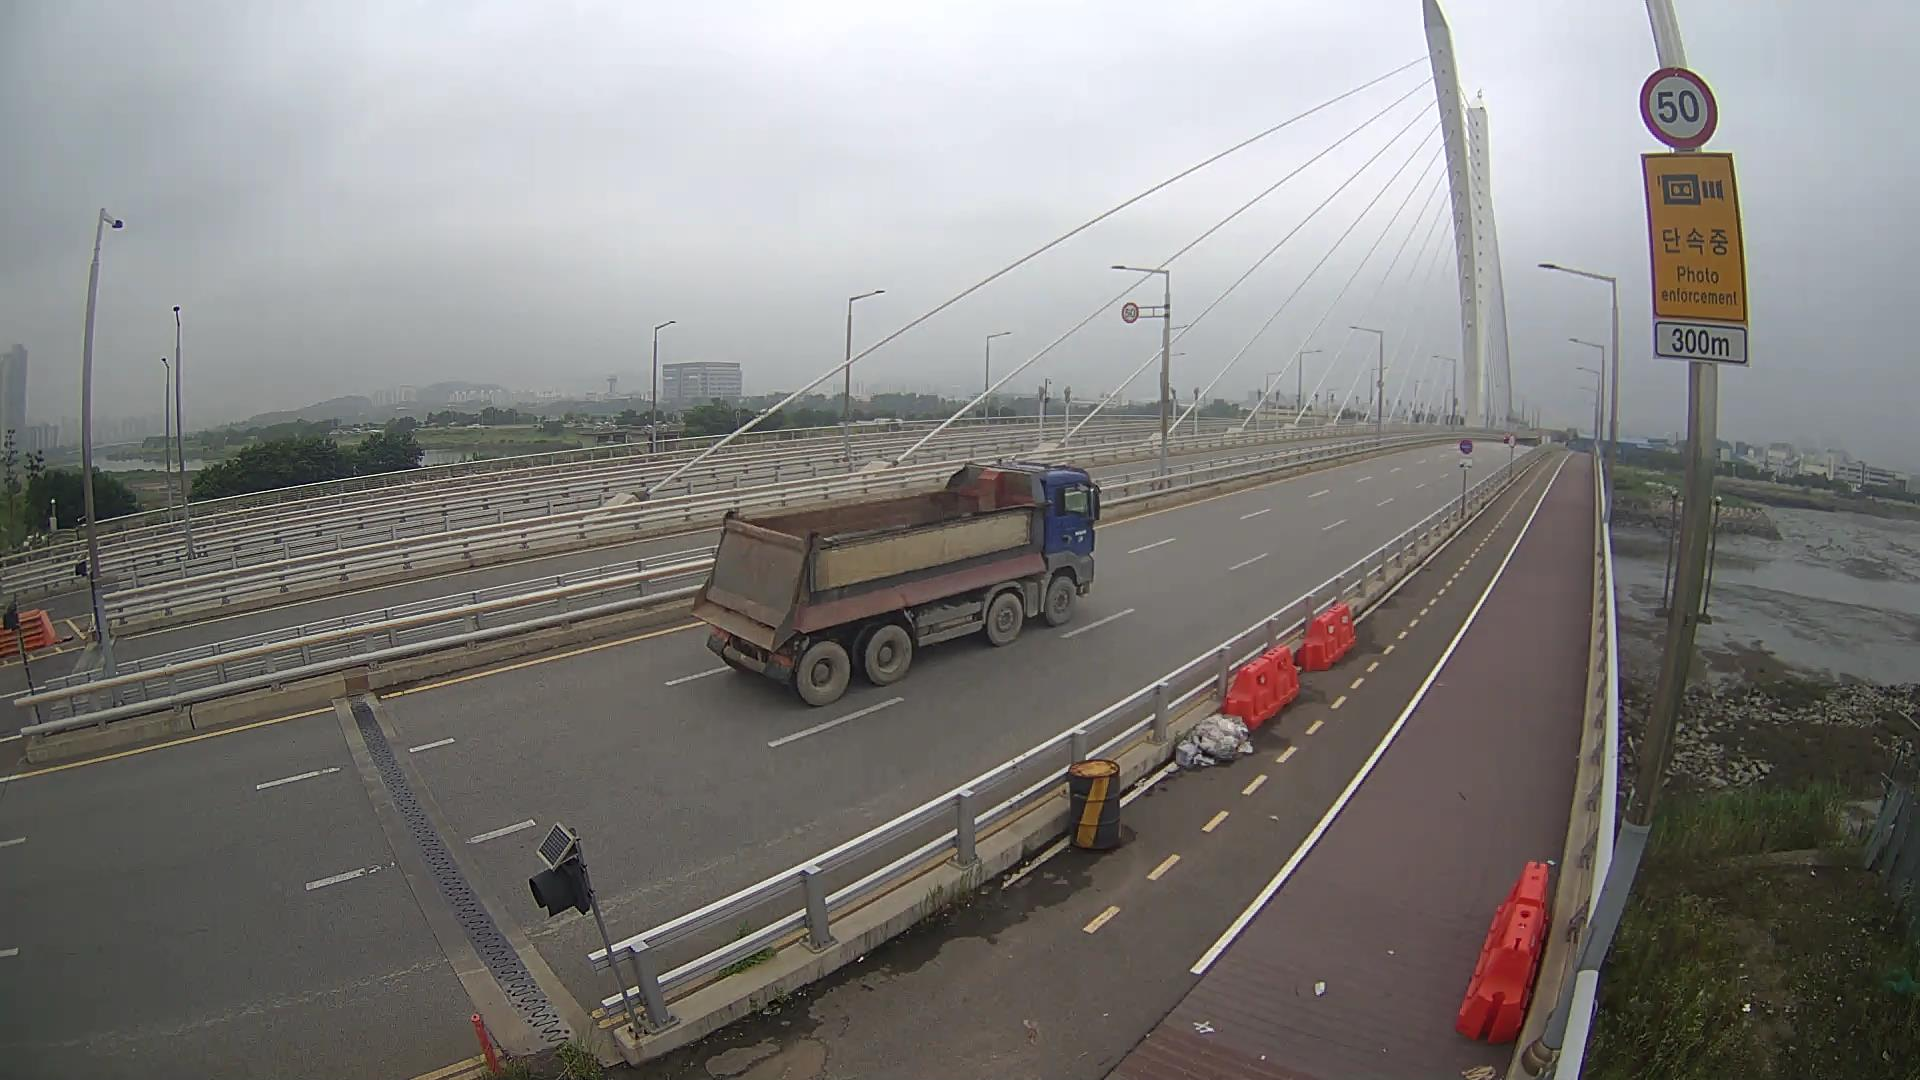정상차량: (691, 455, 1102, 705)
